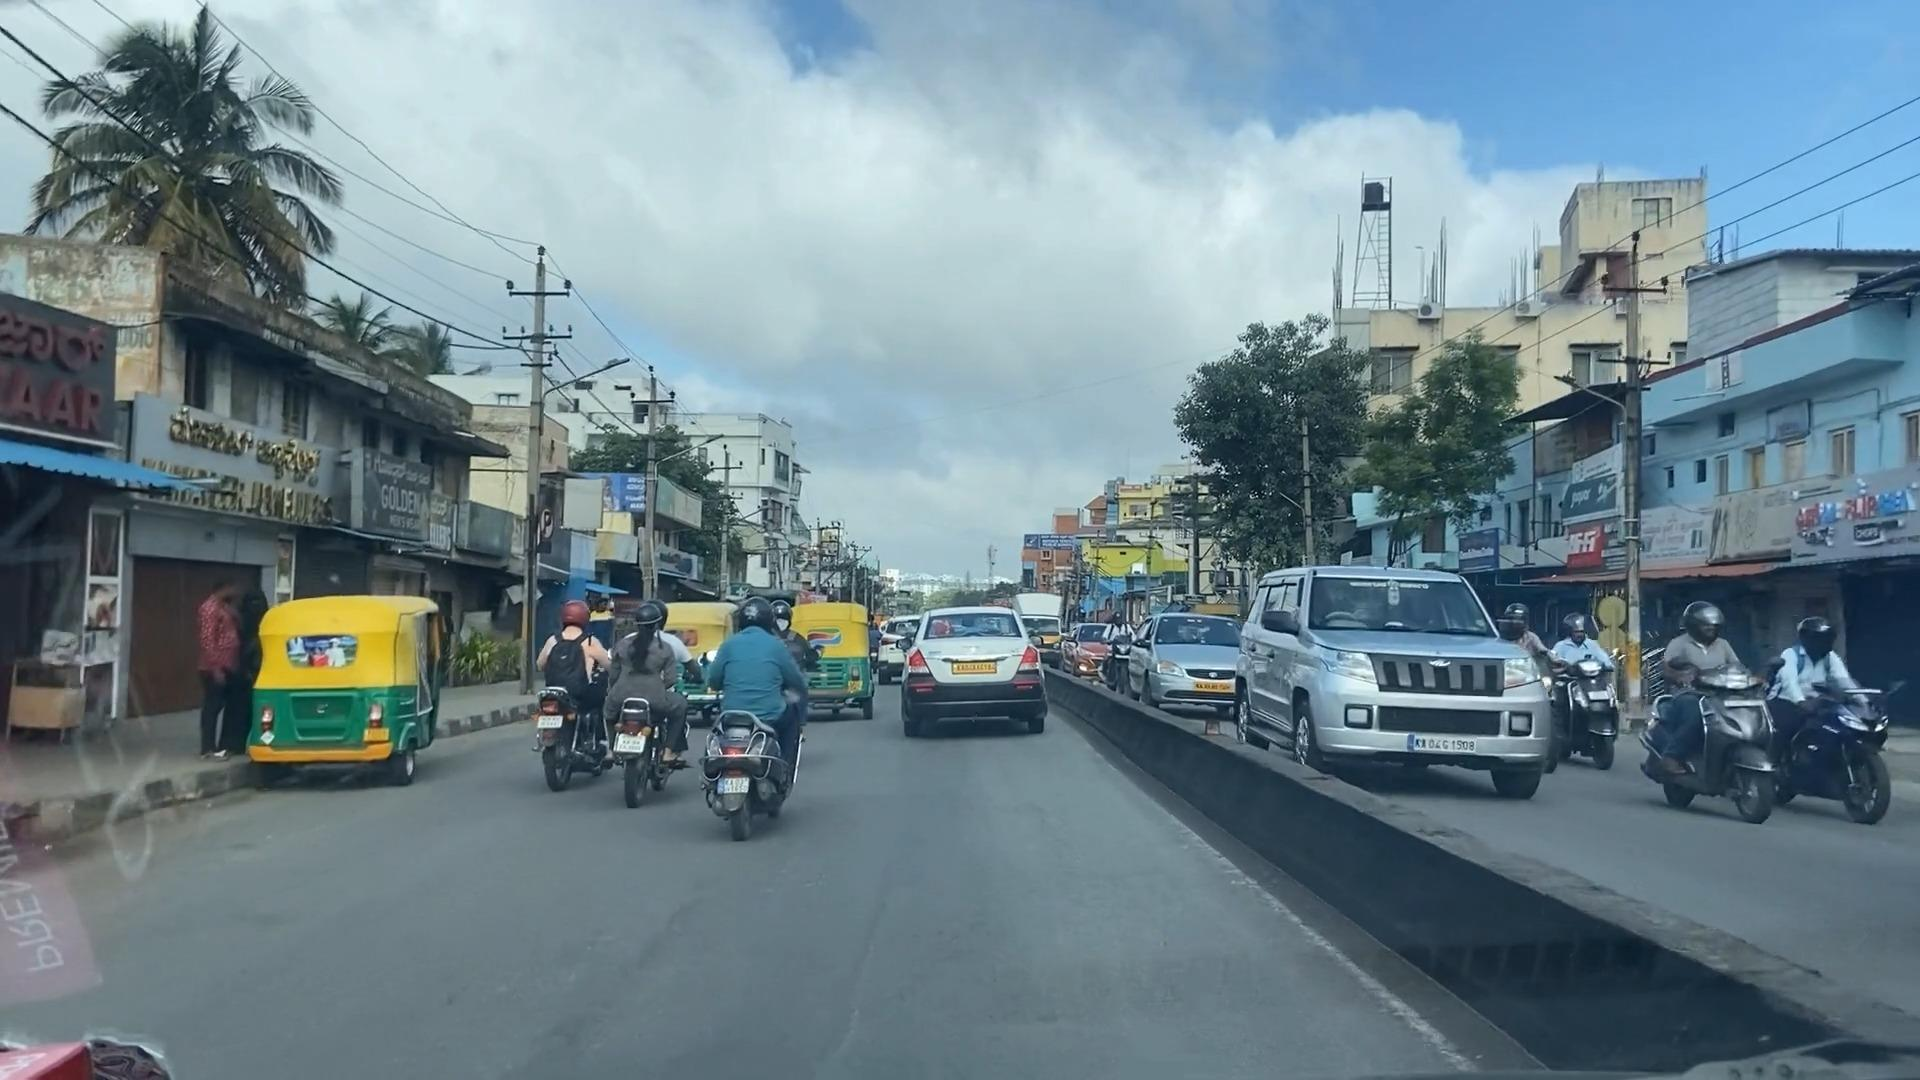LMV: (705, 588, 790, 852), (903, 607, 1043, 742)
